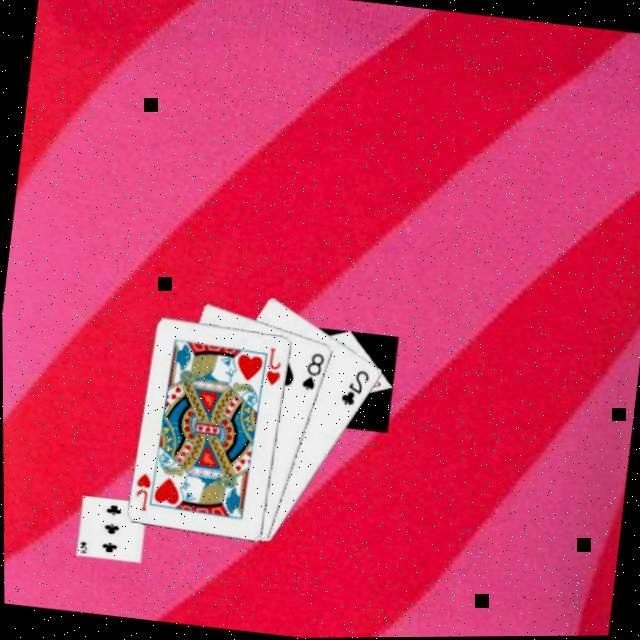2C: (334, 365, 370, 410)
8S: (295, 349, 326, 396)
JH: (259, 344, 283, 389), (128, 469, 152, 514)
